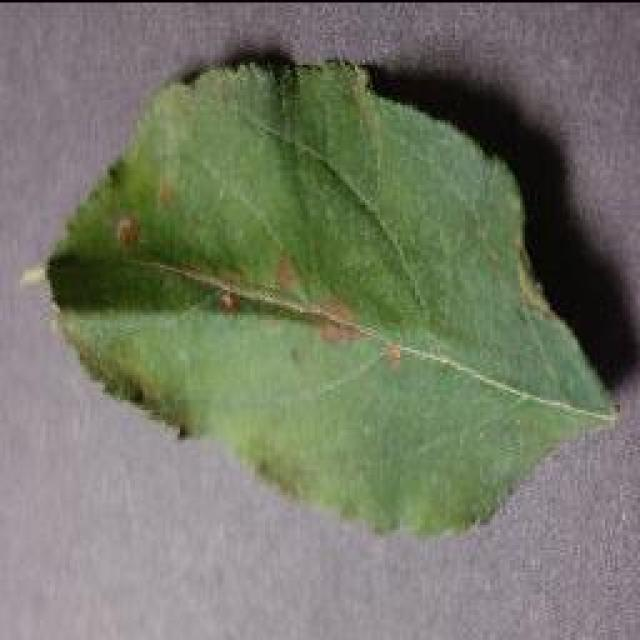apple cedar apple rust: (32, 48, 622, 542)
